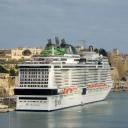cruises: (15, 38, 116, 114)
